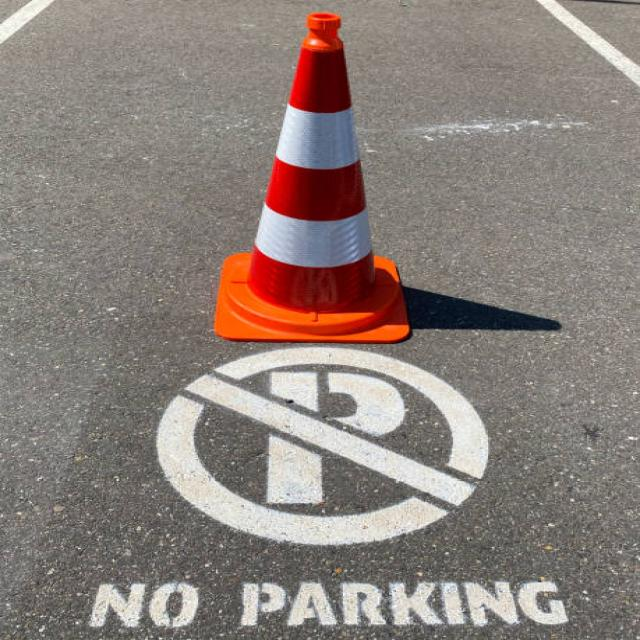Traffic Cone: (153, 0, 470, 354)
